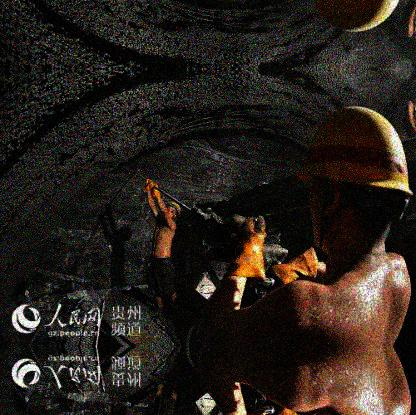helmet: (294, 105, 414, 249), (166, 200, 182, 218)
